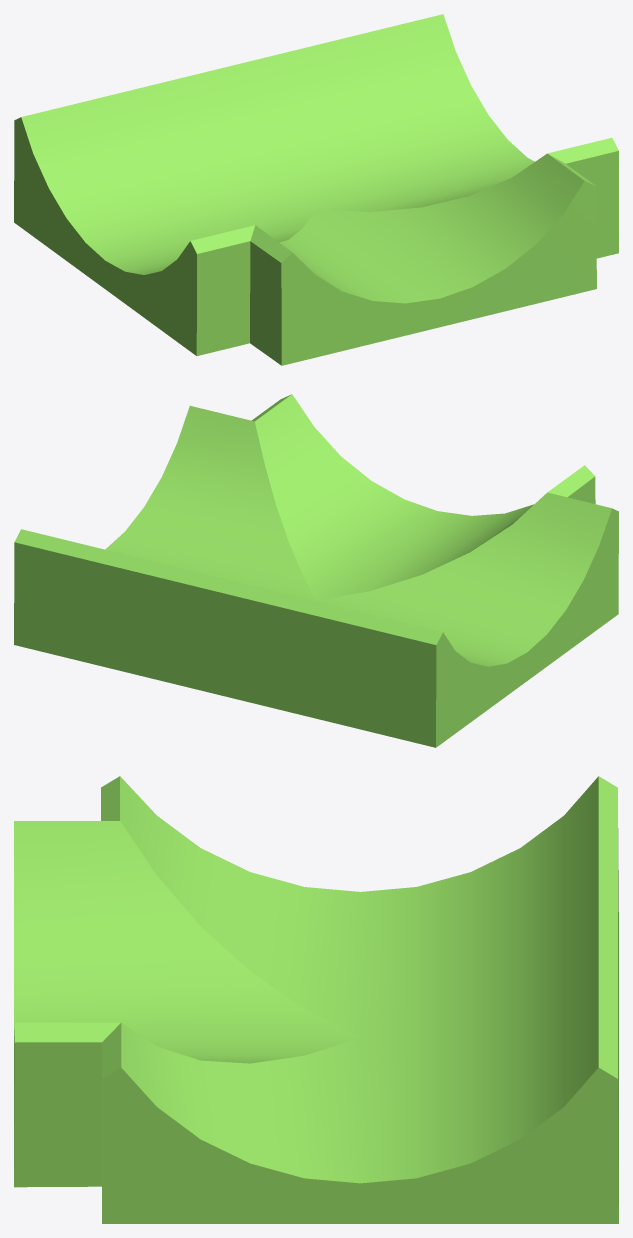
File: RoundCorr_UnderFloor_TType_A.FBX
3 renders of one model, top to bottom at view 1: azimuth 30°, elevation 25°; view 2: azimuth 150°, elevation 25°; view 3: azimuth 270°, elevation 25°, orthographic. The views are drawn at different scales.
Visible parts, largest first — view 1: RoundCorr_UnderFloor_TType_A; view 2: RoundCorr_UnderFloor_TType_A; view 3: RoundCorr_UnderFloor_TType_A.
Part boxes in pixels (x1,y1,x2,y2): RoundCorr_UnderFloor_TType_A: [14, 14, 618, 365]; RoundCorr_UnderFloor_TType_A: [14, 394, 618, 747]; RoundCorr_UnderFloor_TType_A: [14, 776, 618, 1223].
Size of the model in its own units: 599 by 150 by 526.
